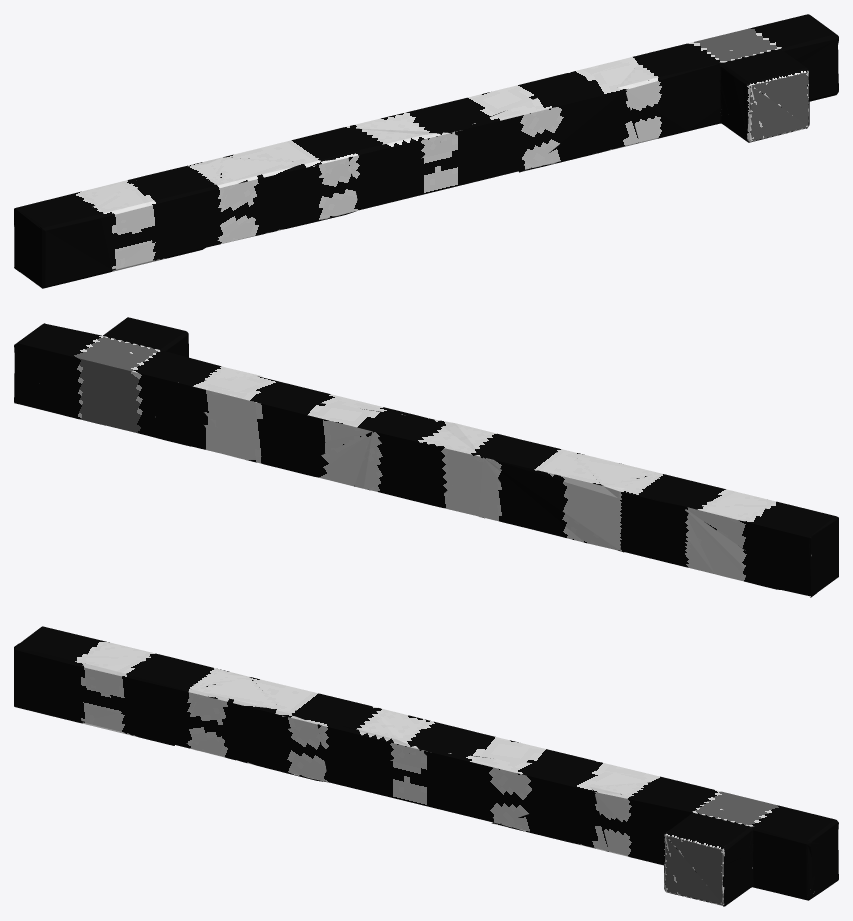
The picture shows the model from 3 angles, top to bottom: view 1: azimuth 30°, elevation 25°; view 2: azimuth 150°, elevation 25°; view 3: azimuth 330°, elevation 25°; orthographic projection.
Parts seen in each view (by area): view 1: OBJ09a; view 2: OBJ09a; view 3: OBJ09a.
Boxes of the visible parts, x1,y1,x2,y2 form: OBJ09a: (14,14,838,288); OBJ09a: (14,317,838,597); OBJ09a: (14,626,838,906).
Size of the model in its own units: 0.3421 by 0.0251 by 0.0425.
1 material, 1 textured.
